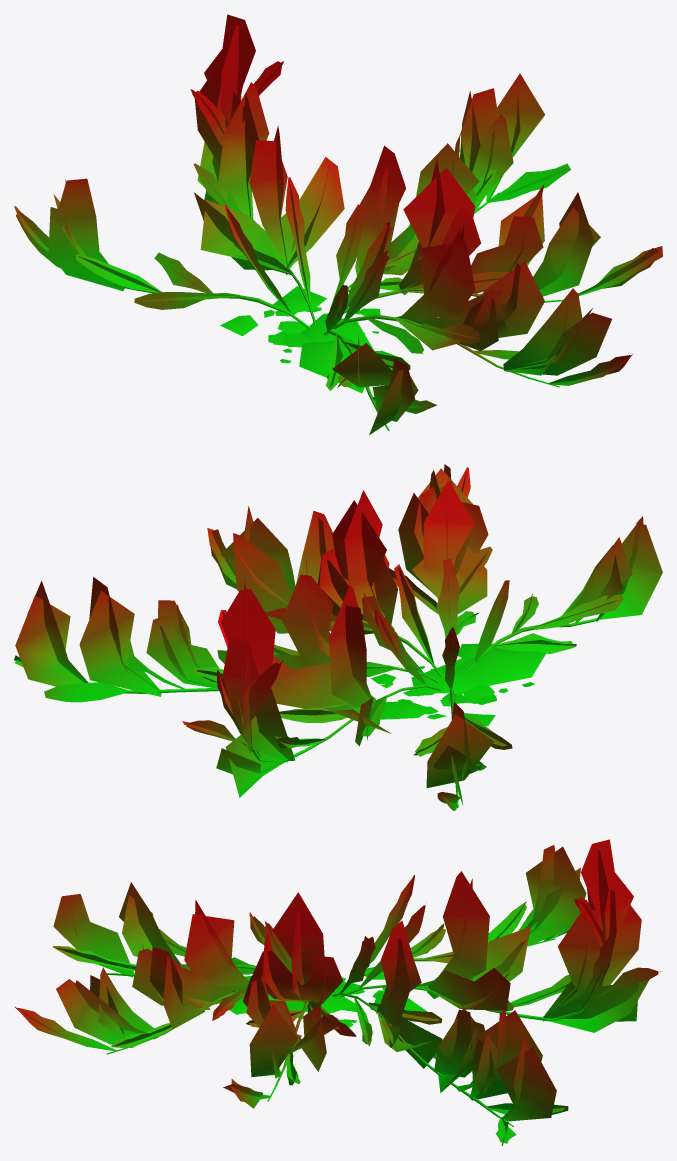
File: River Saltbush_LOD1_Var3_vdfpcgbia.fbx
3 views of the same model, one above another, from view 1: azimuth 30°, elevation 25°; view 2: azimuth 150°, elevation 25°; view 3: azimuth 270°, elevation 25° (orthographic). The views are drawn at different scales.
Visible parts, largest first — view 1: _44te_Var3_LOD1; view 2: _44te_Var3_LOD1; view 3: _44te_Var3_LOD1.
Part boxes in pixels (bbox=[...]): _44te_Var3_LOD1: bbox=[14, 14, 662, 435]; _44te_Var3_LOD1: bbox=[14, 464, 662, 810]; _44te_Var3_LOD1: bbox=[14, 839, 661, 1145].
Bounding box in the file's own units: 75.88 × 29.34 × 91.15.
